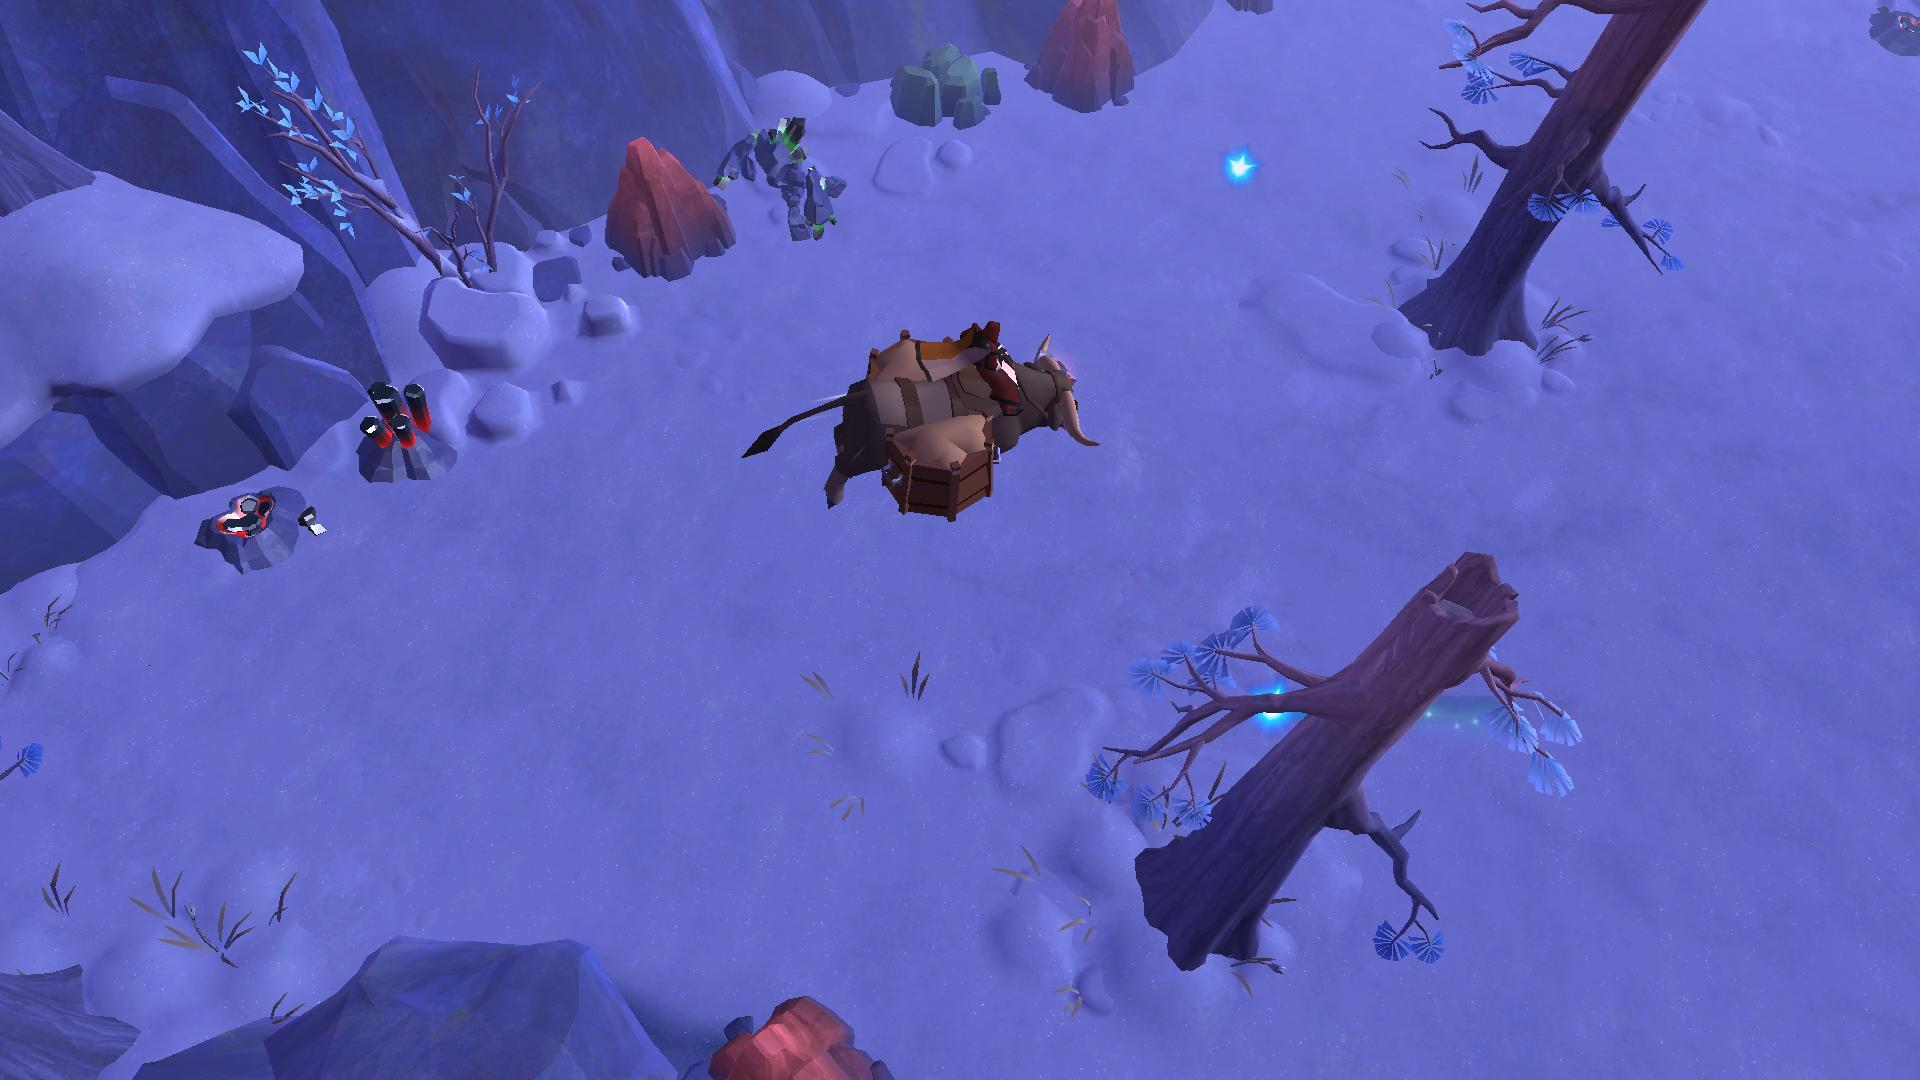ore_t5: (351, 377, 435, 454)
rock_t3: (876, 33, 1002, 149)
rock_t5: (607, 135, 732, 281), (708, 984, 886, 1080), (1022, 0, 1141, 119)
